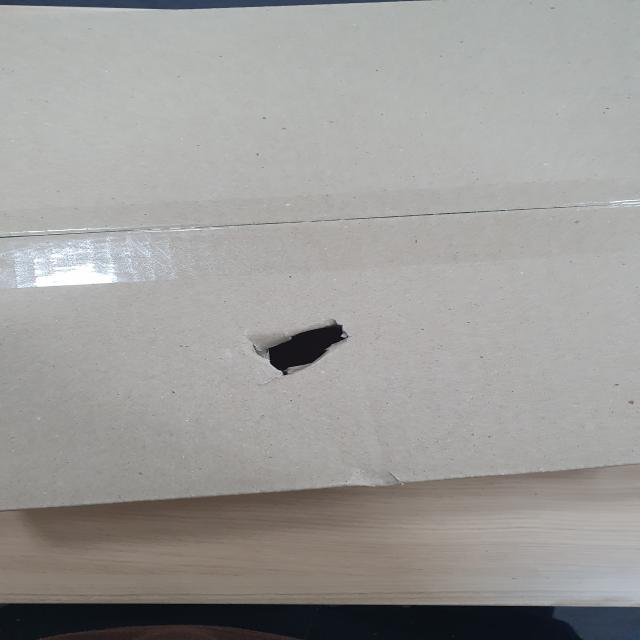hole: (241, 321, 363, 377)
